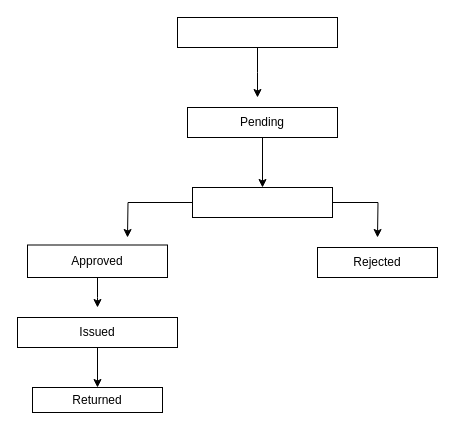
The diagram is 455 pixels wide and 430 high, and some of its shapes have lost their labels. The shapes that lost their labels are listed below. From the top down, each one's centre as x and y in pixels, then its label:
At (257,32): "User creates booking".
At (262,202): "Admin review".
